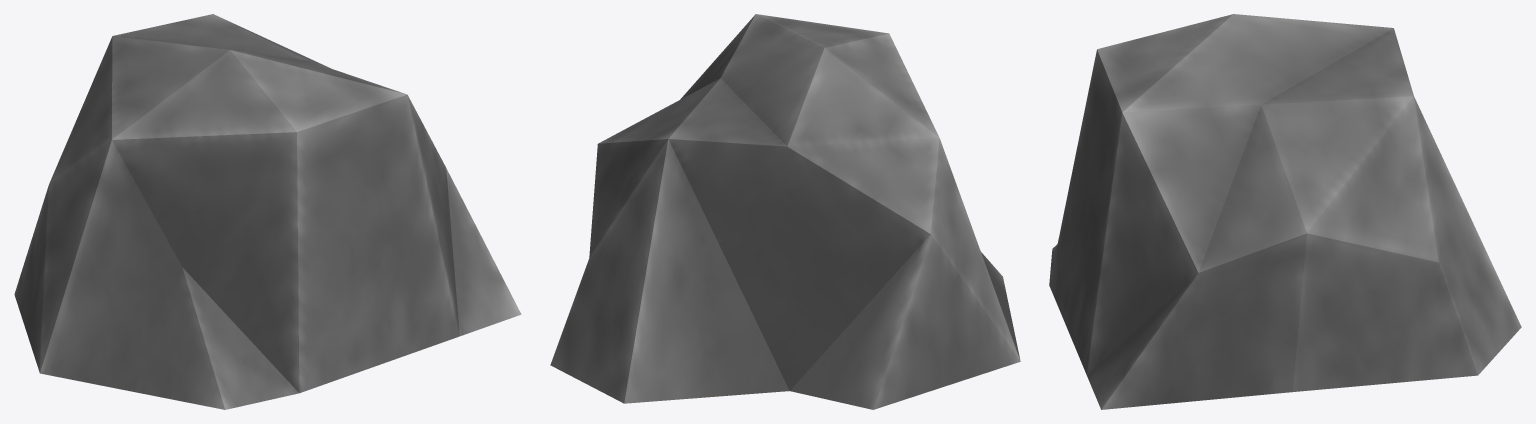
File: GJ_Decor_Exterior_Rock_03.fbx
3 views of the same model, side by side, from view 1: azimuth 30°, elevation 25°; view 2: azimuth 150°, elevation 25°; view 3: azimuth 270°, elevation 25° (orthographic). The views are drawn at different scales.
Visible parts, largest first — view 1: GJ_Decor_Exterior_Rock_03; view 2: GJ_Decor_Exterior_Rock_03; view 3: GJ_Decor_Exterior_Rock_03.
Part boxes in pixels (x1,y1,x2,y2): GJ_Decor_Exterior_Rock_03: (14,14,521,409); GJ_Decor_Exterior_Rock_03: (550,14,1020,409); GJ_Decor_Exterior_Rock_03: (1049,14,1521,409).
Size of the model in its own units: 6.34 by 3.92 by 5.97.
Materials: 1 (1 with a texture image).
